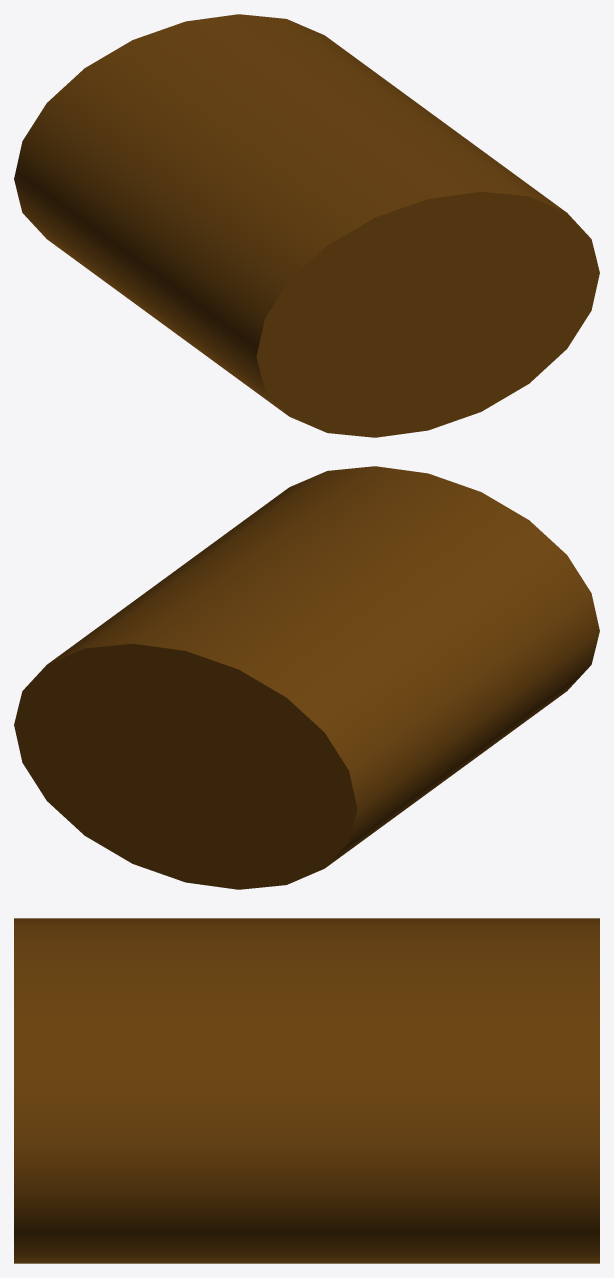
3 renders of one model, top to bottom at view 1: azimuth 30°, elevation 25°; view 2: azimuth 150°, elevation 25°; view 3: azimuth 270°, elevation 25°, orthographic. The views are drawn at different scales.
Visible parts, largest first — view 1: superman:pCylinder4; view 2: superman:pCylinder4; view 3: superman:pCylinder4.
Part boxes in pixels (bbox=[...]): superman:pCylinder4: bbox=[14, 14, 599, 437]; superman:pCylinder4: bbox=[14, 466, 599, 889]; superman:pCylinder4: bbox=[14, 918, 599, 1263].
Bounding box in the file's own units: 0.4809 × 0.3098 × 0.5882.
